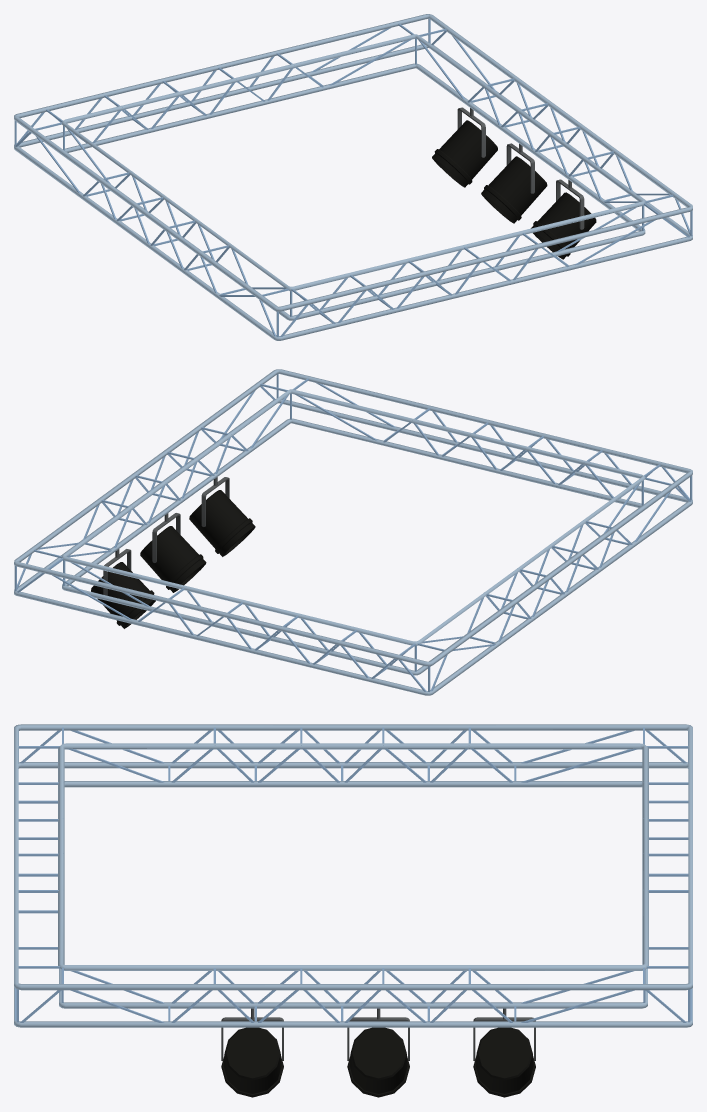
The model's file is Light_l.fbx.
The picture shows the model from 3 angles, top to bottom: view 1: azimuth 30°, elevation 25°; view 2: azimuth 150°, elevation 25°; view 3: azimuth 270°, elevation 25°; orthographic projection. The views are drawn at different scales.
Parts seen in each view (by area): view 1: Cube.438, Cylinder.036; view 2: Cube.438, Cylinder.036; view 3: Cube.438, Cylinder.036.
Part boxes in pixels (x1=…): Cube.438: x1=14, y1=14, x2=692, y2=340; Cylinder.036: x1=432, y1=107, x2=596, y2=259; Cube.438: x1=14, y1=369, x2=692, y2=695; Cylinder.036: x1=91, y1=477, x2=255, y2=628; Cube.438: x1=14, y1=724, x2=692, y2=1027; Cylinder.036: x1=221, y1=1008, x2=535, y2=1097.
Bounding box in the file's own units: 539 × 591 × 134.
